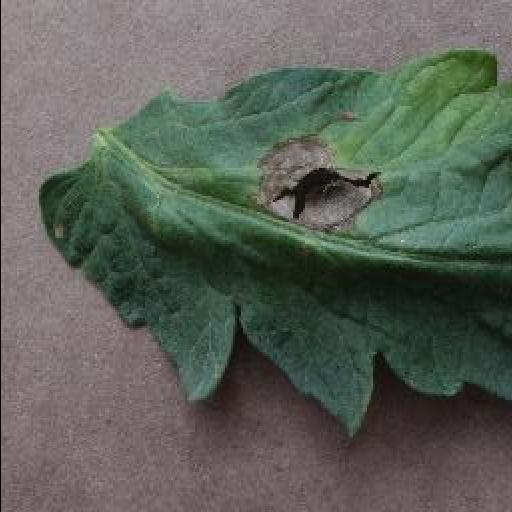disease_tomato: (40, 38, 512, 442)
